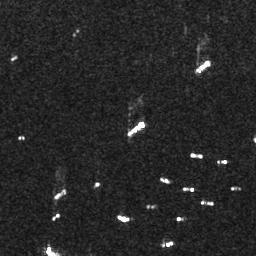ship: (125, 120, 145, 137), (196, 60, 211, 73), (116, 213, 131, 223), (54, 188, 66, 200), (161, 239, 174, 249), (200, 200, 215, 207), (182, 186, 196, 193), (231, 184, 241, 193), (160, 176, 171, 184), (191, 152, 203, 159), (52, 213, 61, 221), (216, 159, 228, 164), (176, 216, 185, 222), (10, 54, 17, 61), (17, 135, 25, 140)
